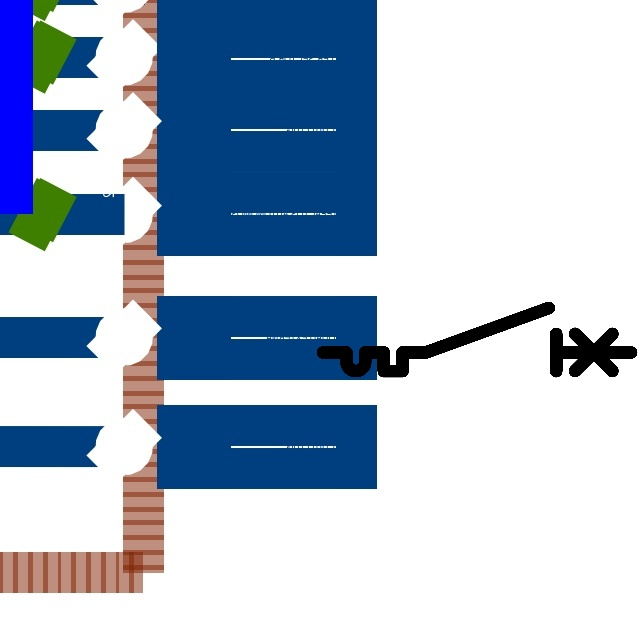interruptor_termomagnetico: (315, 300, 639, 379)
